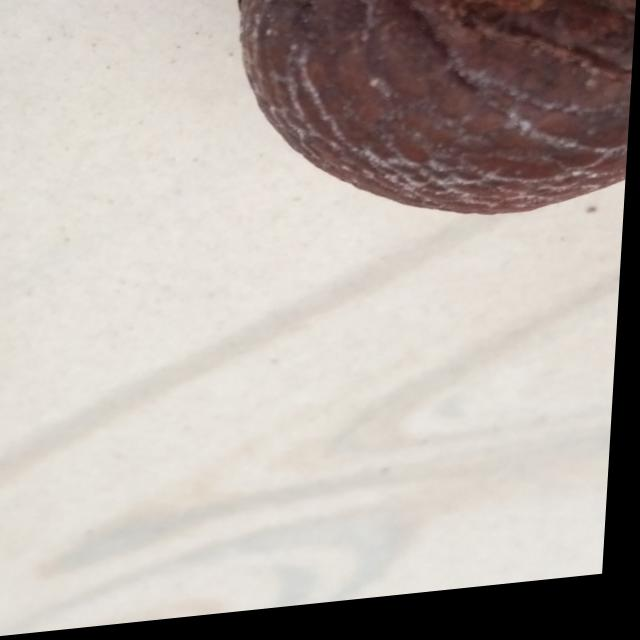karigot: (183, 0, 640, 250)
